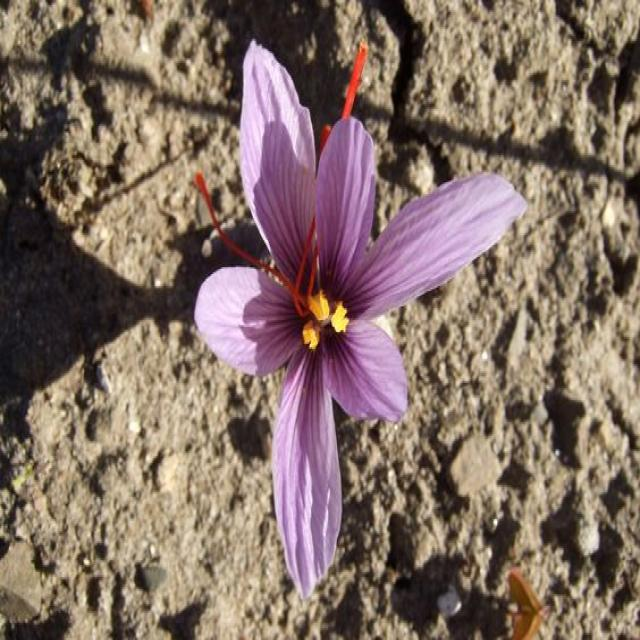Flower: (172, 31, 502, 586)
stigma: (188, 165, 268, 275), (343, 41, 368, 122)
